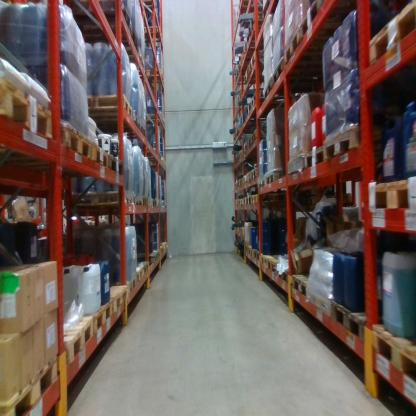pallet: (0, 77, 60, 152), (1, 355, 65, 415), (364, 0, 415, 65), (332, 293, 383, 351), (374, 318, 415, 390), (322, 128, 385, 172), (283, 25, 348, 67), (366, 164, 413, 222), (70, 186, 136, 220), (49, 316, 93, 364), (297, 3, 356, 35), (307, 281, 343, 328), (91, 280, 130, 323), (58, 116, 93, 163), (74, 9, 131, 35), (85, 91, 132, 120), (77, 301, 113, 333), (273, 54, 306, 87), (291, 272, 323, 304), (301, 133, 324, 177), (92, 37, 141, 56), (262, 80, 301, 101), (287, 147, 308, 181), (87, 135, 108, 168), (140, 22, 167, 47), (268, 254, 292, 280), (263, 248, 287, 274), (244, 28, 272, 50), (250, 193, 279, 214), (278, 254, 296, 285), (238, 112, 274, 127), (145, 112, 170, 132), (134, 73, 169, 87), (249, 50, 269, 74), (107, 152, 126, 176), (247, 12, 266, 35), (133, 246, 158, 263), (116, 273, 137, 293), (130, 259, 149, 281), (120, 57, 150, 70), (241, 44, 261, 63), (250, 89, 266, 110), (266, 170, 286, 186), (250, 128, 267, 146), (244, 66, 263, 82), (249, 163, 262, 183), (131, 109, 142, 132), (130, 266, 142, 287), (134, 188, 143, 210), (254, 248, 263, 269), (258, 173, 267, 190), (245, 100, 254, 117), (241, 243, 251, 258), (248, 245, 257, 261), (159, 239, 168, 255), (242, 137, 249, 155), (152, 194, 159, 212), (154, 244, 163, 258), (144, 194, 150, 211), (139, 127, 149, 137), (248, 137, 254, 149)
